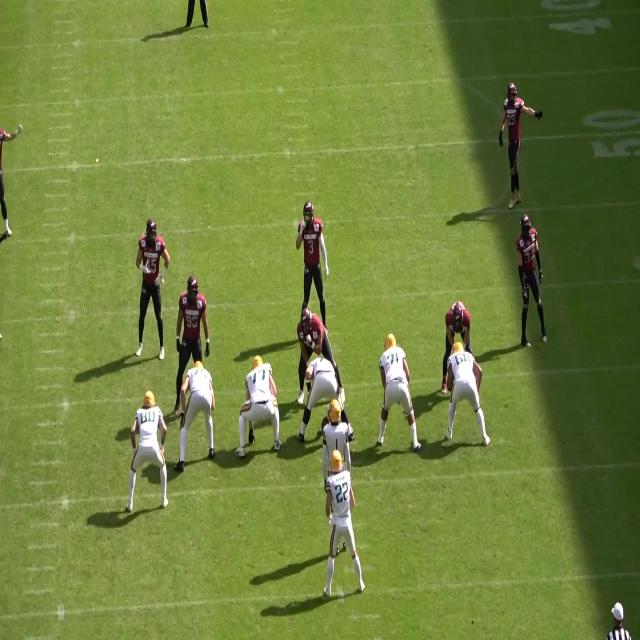american-football-players: (324, 452, 365, 598), (499, 83, 544, 209), (376, 335, 421, 448), (174, 275, 210, 415), (233, 356, 282, 457), (136, 218, 170, 362), (127, 391, 167, 512), (300, 356, 355, 441), (446, 342, 490, 446), (174, 361, 215, 472), (296, 201, 330, 334), (297, 308, 345, 402), (322, 398, 350, 553), (516, 214, 546, 348), (0, 119, 23, 241), (442, 302, 471, 391)
